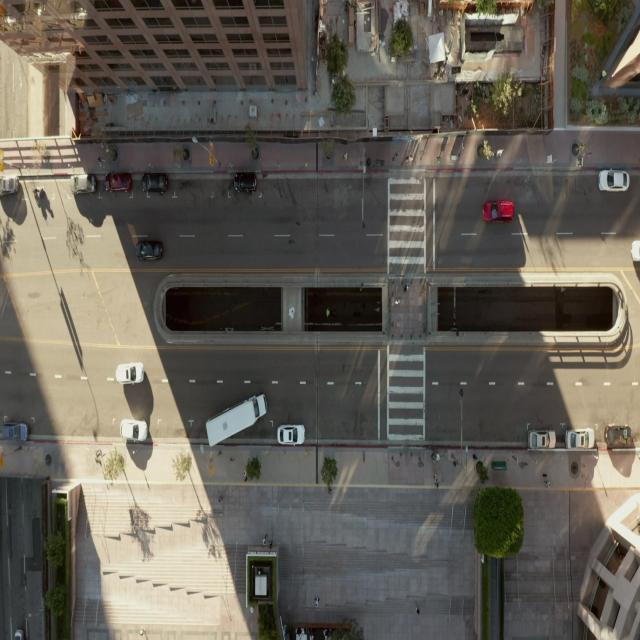Bus: (274, 421, 306, 449)
Car: (477, 187, 516, 235), (130, 233, 166, 267), (596, 166, 631, 198), (115, 417, 150, 448), (111, 359, 147, 388), (101, 167, 135, 197), (602, 419, 633, 451), (229, 165, 264, 192), (67, 168, 97, 199), (563, 425, 596, 453), (525, 426, 557, 454), (0, 419, 30, 448), (140, 168, 168, 199), (0, 169, 21, 197)
Cycle: (29, 183, 47, 205)
Van: (202, 388, 268, 448)
